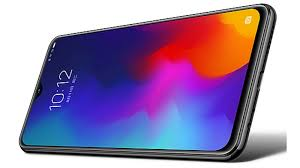lenovo: (17, 1, 278, 167)
